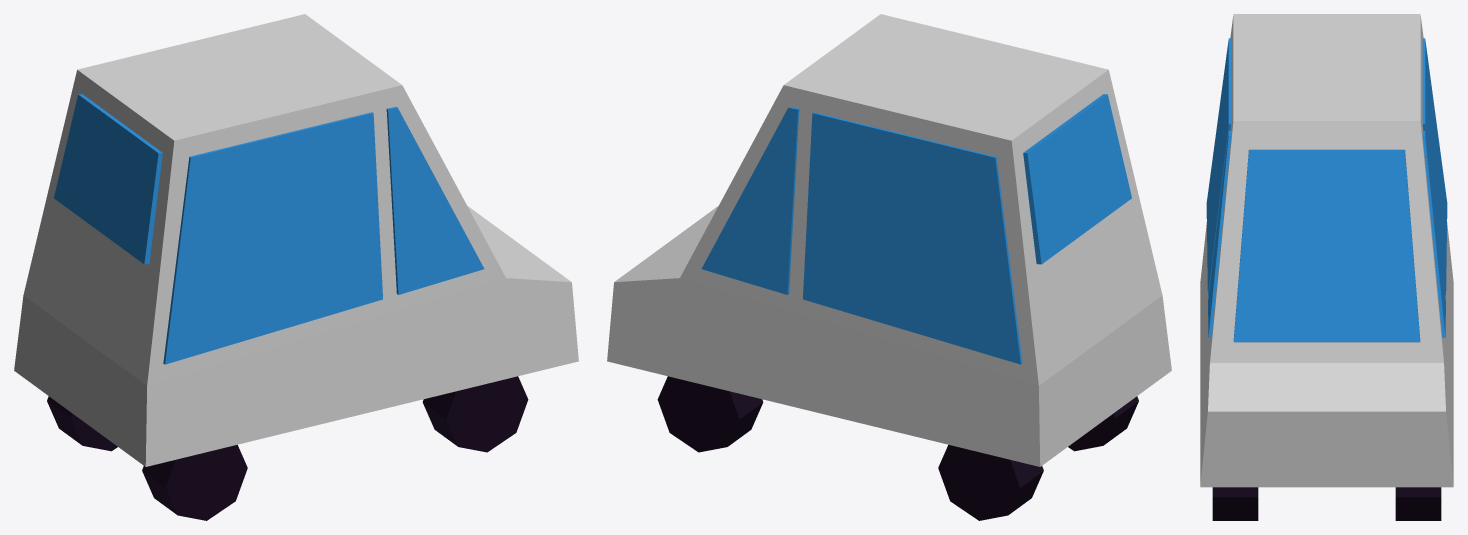
The model's file is car_simple.glb.
3 views of the same model, side by side, from view 1: azimuth 30°, elevation 25°; view 2: azimuth 150°, elevation 25°; view 3: azimuth 270°, elevation 25° (orthographic). The views are drawn at different scales.
Parts seen in each view (by area): view 1: Cube, Cube.003, Cube.010, Cube.004, Cube.002, Cube.001, Cube.006; view 2: Cube, Cube.007, Cube.010, Cube.008, Cube.006, Cube.005, Cube.002; view 3: Cube, Cube.009, Cube.003, Cube.007, Cube.001, Cube.005, Cube.004, Cube.008.
Part boxes in pixels (x1=…): Cube: x1=14, y1=14, x2=578, y2=466; Cube.003: x1=163, y1=112, x2=382, y2=364; Cube.010: x1=54, y1=94, x2=162, y2=264; Cube.004: x1=386, y1=106, x2=484, y2=294; Cube.002: x1=142, y1=444, x2=247, y2=520; Cube.001: x1=422, y1=376, x2=528, y2=452; Cube.006: x1=47, y1=396, x2=117, y2=451; Cube: x1=607, y1=14, x2=1171, y2=466; Cube.007: x1=803, y1=112, x2=1022, y2=364; Cube.010: x1=1023, y1=94, x2=1131, y2=264; Cube.008: x1=701, y1=106, x2=799, y2=294; Cube.006: x1=938, y1=444, x2=1043, y2=520; Cube.005: x1=657, y1=376, x2=763, y2=452; Cube.002: x1=1068, y1=396, x2=1138, y2=451; Cube: x1=1200, y1=14, x2=1453, y2=487; Cube.009: x1=1233, y1=149, x2=1420, y2=342; Cube.003: x1=1206, y1=38, x2=1231, y2=295; Cube.007: x1=1422, y1=38, x2=1447, y2=295; Cube.001: x1=1212, y1=487, x2=1258, y2=520; Cube.005: x1=1395, y1=487, x2=1441, y2=520; Cube.004: x1=1208, y1=131, x2=1231, y2=337; Cube.008: x1=1422, y1=131, x2=1445, y2=337.
Bounding box in the file's own units: 3 × 2.5 × 1.58.
